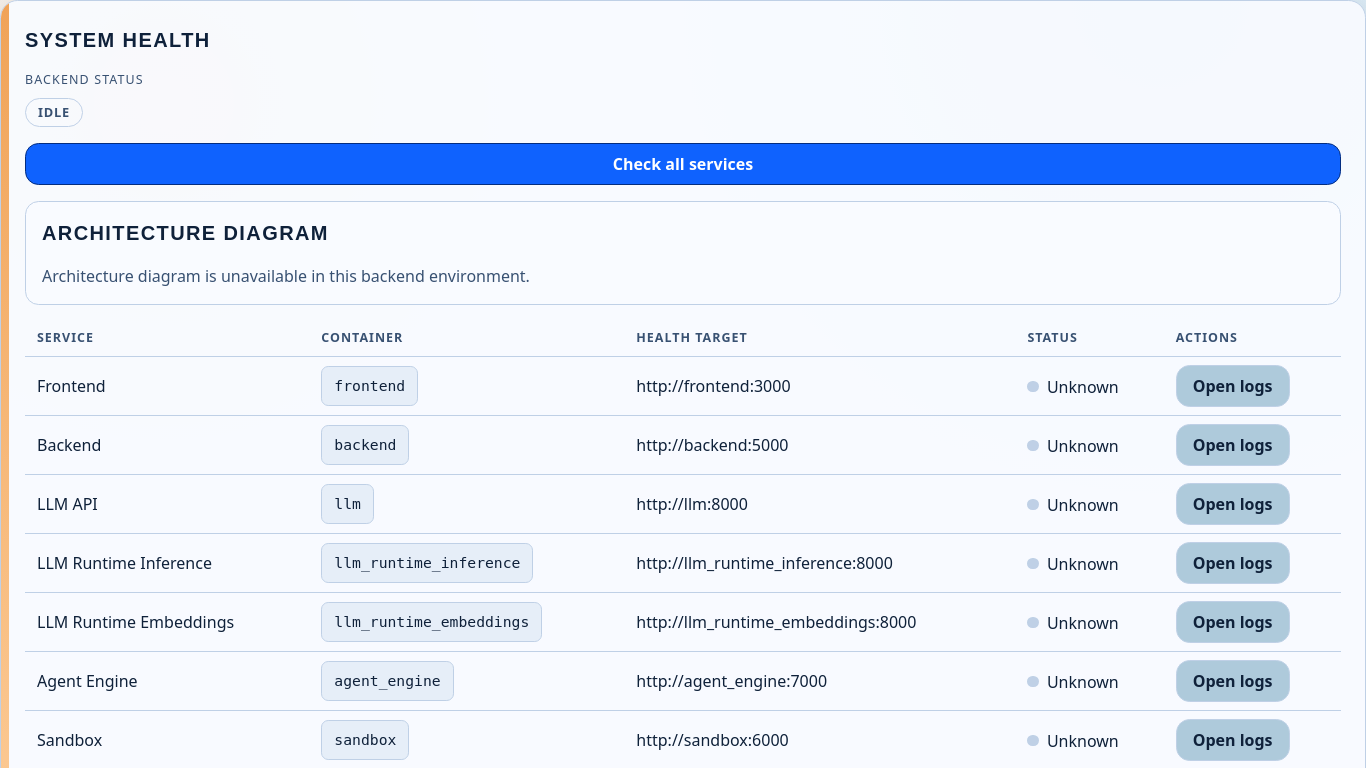
BackendHealthPage › marks the frontend as up from the active browser session
Click the button "Check all services".
click(683, 164)  # box x1=25 y1=143 x2=1341 y2=185
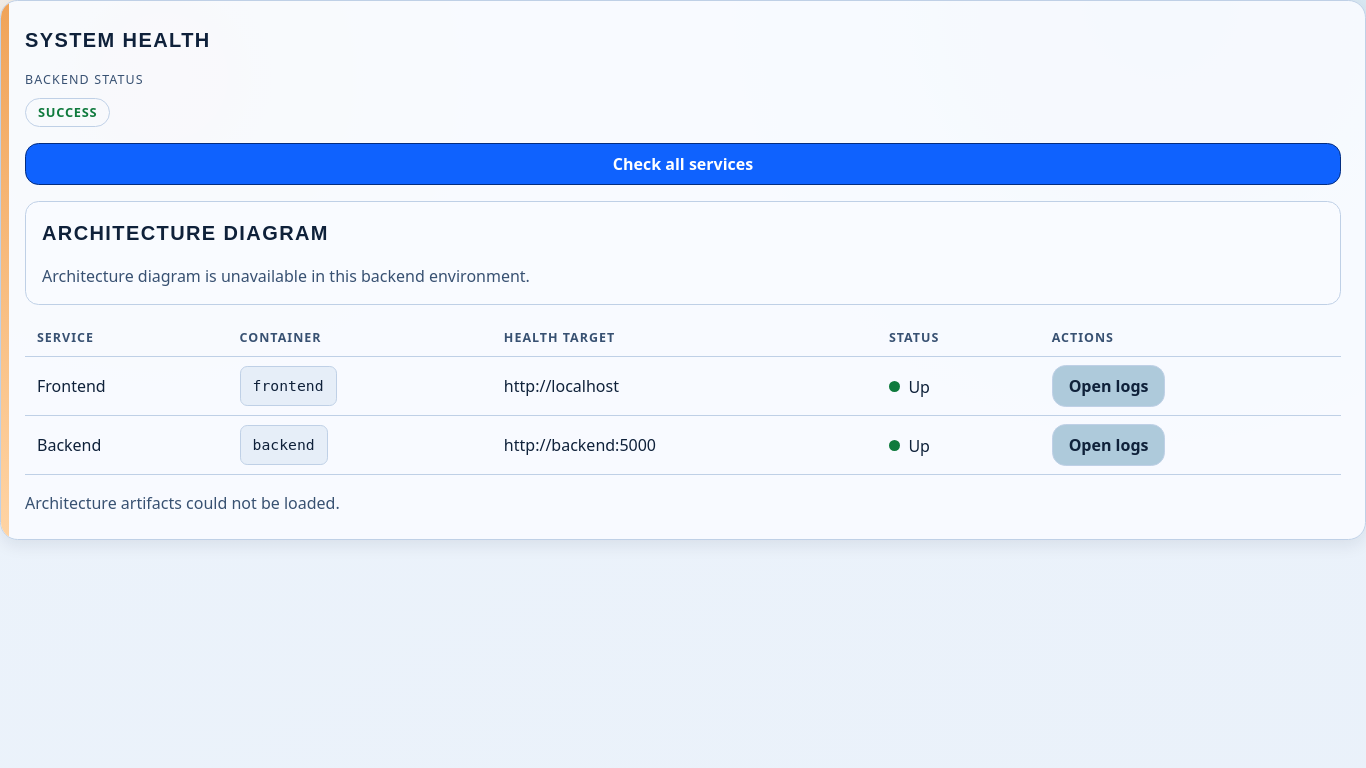
Expected: the text "Frontend" is shown, x1=37 y1=375 x2=106 y2=397
Result: the text "http://localhost" is shown at x1=492 y1=356 x2=877 y2=415
Result: the text "Up" in the row of "http://localhost" is shown at x1=908 y1=376 x2=930 y2=398
